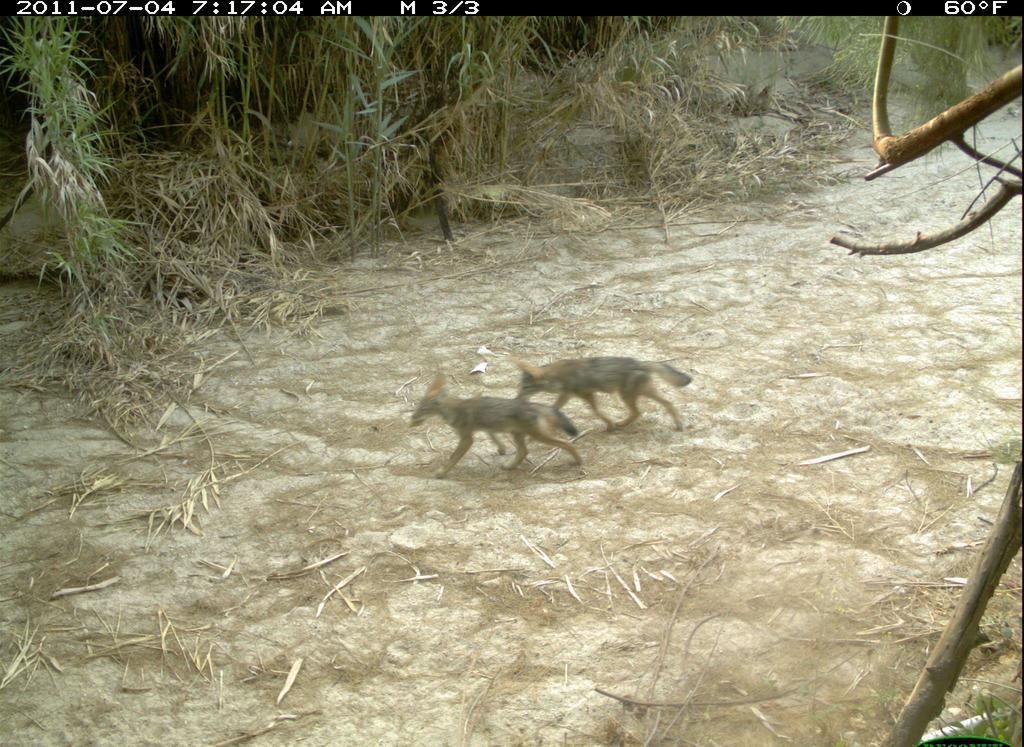coyote: (410, 372, 587, 479), (511, 354, 696, 438)
